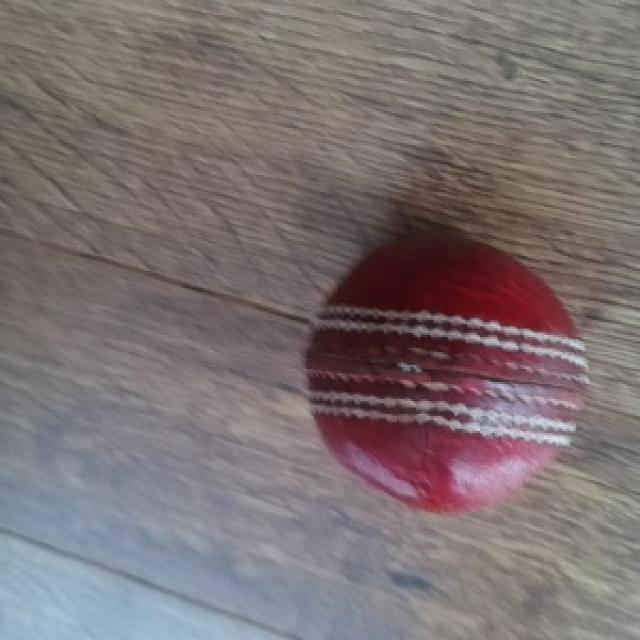ball: (313, 254, 590, 512)
